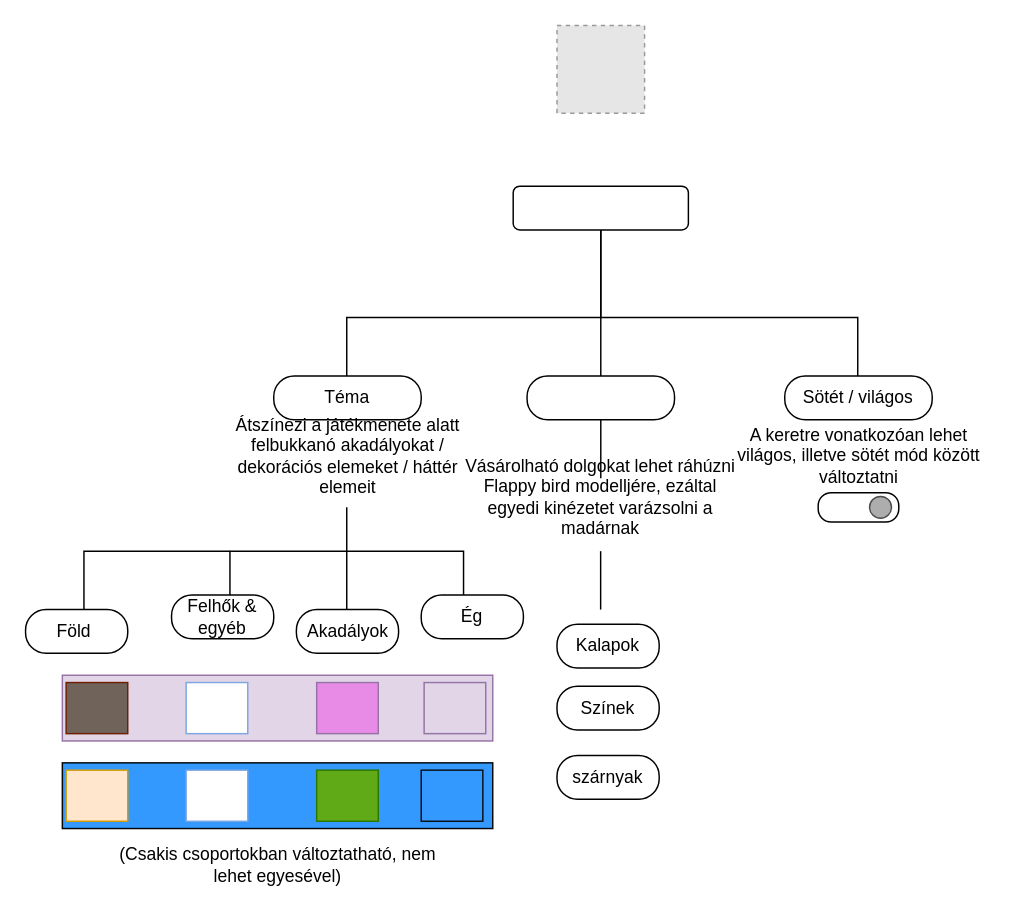
Image size: 1022x913. Some labels were removed from this diagram. Grey dashed boxes stand in for pictures. Each missing label, with the box of its shape:
Kinézet: (526, 374, 675, 420)
Kozmetikai menü: (512, 185, 688, 230)
